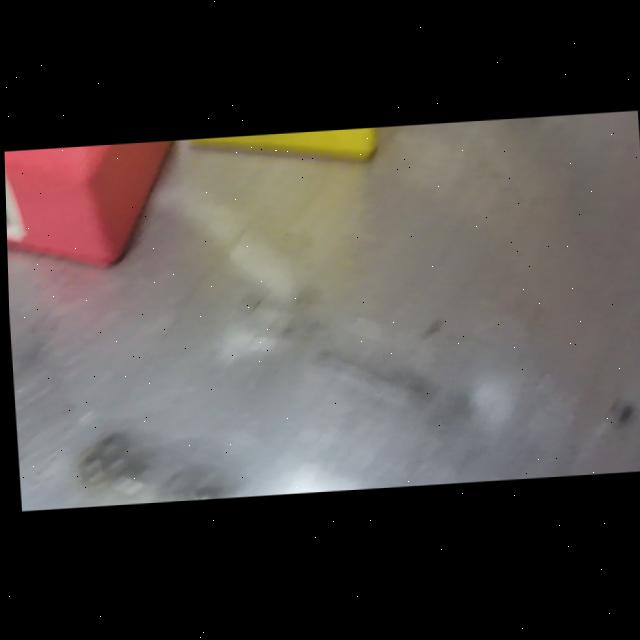redBox: (3, 141, 185, 281)
yellowBox: (170, 127, 414, 183)
